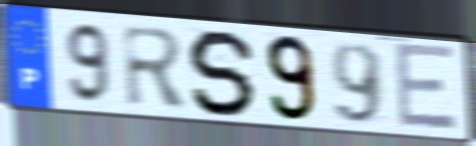9: (262, 32, 319, 125), (330, 40, 389, 125), (62, 21, 114, 107)
E: (391, 39, 461, 133)
R: (119, 23, 193, 110)
S: (185, 27, 261, 119)
